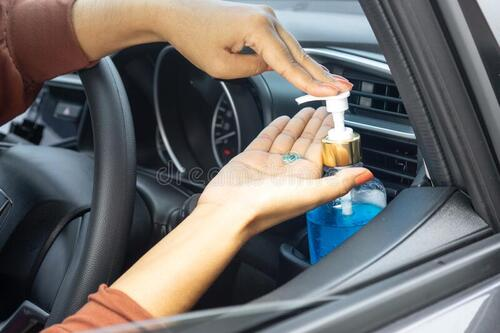sanitizer: (290, 89, 387, 231)
